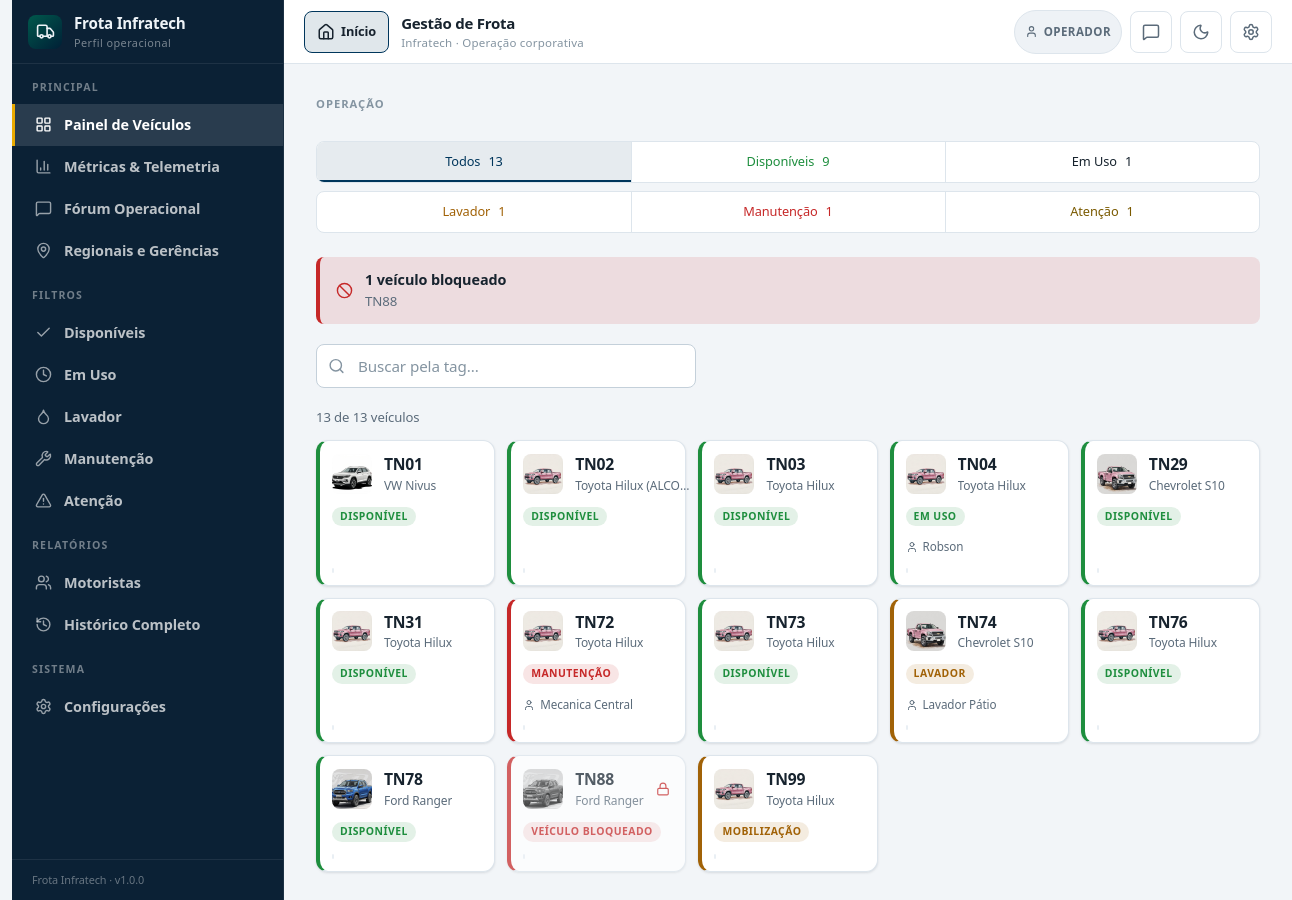
it: Aplicação — operação › filtra a frota pela barra de filtros
Expected: the element named "Frota Infratech" is shown, [12,0,284,899]
Click the radio button labelled "Disponíveis 9": point(788, 162) [631,142,945,182]
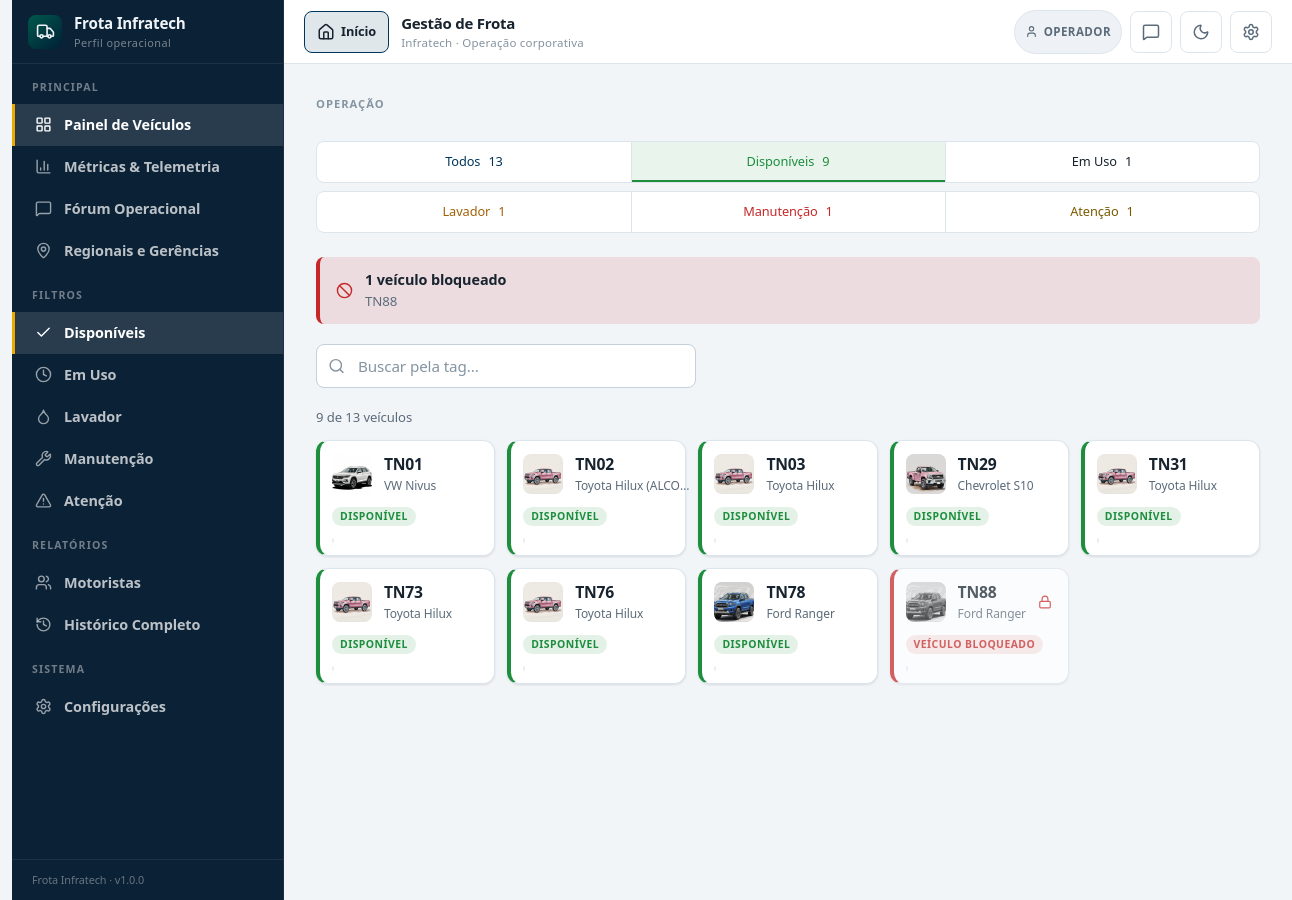
Expected: the text "9 de 13 veículos" is shown, [316,408,412,426]
